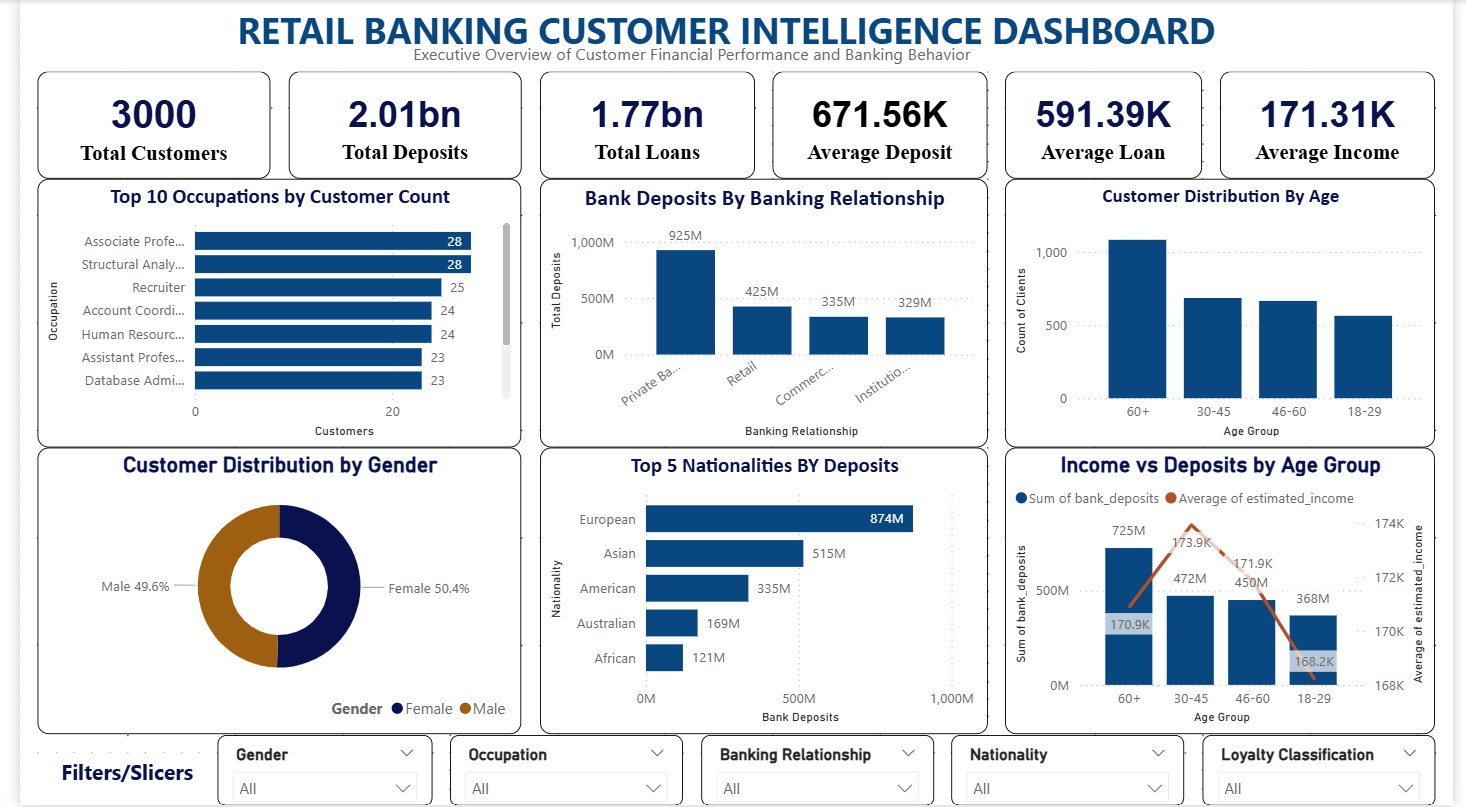

The dashboard page shown, as its layout file describes it:
{"tool":"powerbi","page":{"name":"Executive Dashboard","canvas":[1280,720],"ordinal":0},"visuals":[{"type":"card","fields":{"Values":["clean_banking_data.Total Customers"]},"box":[16,64,208,96],"z":0},{"type":"card","fields":{"Values":["clean_banking_data.Average Loan"]},"box":[880,64,176,96],"z":1},{"type":"card","fields":{"Values":["clean_banking_data.Average Deposit"]},"box":[672,64,192,96],"z":2},{"type":"card","fields":{"Values":["clean_banking_data.Total Deposits"]},"box":[240,64,208,96],"z":3},{"type":"card","fields":{"Values":["clean_banking_data.Average Income"]},"box":[1072,64,192,96],"z":4},{"type":"card","fields":{"Values":["clean_banking_data.Total Loans"]},"box":[464,64,192,96],"z":5},{"type":"clusteredBarChart","title":"Top 10 Occupations by Customer Count","fields":{"Category":["clean_banking_data.occupation"],"Y":["CountNonNull(clean_banking_data.client_id)"]},"box":[16,160,432,240],"z":6},{"type":"clusteredColumnChart","title":"Bank Deposits By Banking Relationship","fields":{"Category":["clean_banking_data.banking_relationship"],"Y":["Sum(clean_banking_data.bank_deposits)"]},"box":[464,160,400,240],"z":7},{"type":"donutChart","title":"Customer Distribution by Gender","fields":{"Category":["clean_banking_data.gender"],"Y":["CountNonNull(clean_banking_data.client_id)"]},"box":[16,400,432,256],"z":8},{"type":"clusteredBarChart","title":"Top 5 Nationalities BY Deposits","fields":{"Category":["clean_banking_data.nationality"],"Y":["Sum(clean_banking_data.bank_deposits)"]},"box":[464,400,400,256],"z":9},{"type":"columnChart","title":"Customer Distribution By Age","fields":{"Category":["clean_banking_data.Age Group"],"Y":["CountNonNull(clean_banking_data.client_id)"]},"box":[880,160,384,240],"z":10},{"type":"lineClusteredColumnComboChart","title":"Income vs Deposits by Age Group","fields":{"Category":["clean_banking_data.Age Group"],"Y":["Sum(clean_banking_data.bank_deposits)"],"Y2":["Avg(clean_banking_data.estimated_income)"]},"box":[880,400,384,256],"z":11},{"type":"textbox","box":[16,0,1248,64],"z":12},{"type":"slicer","fields":{"Values":["clean_banking_data.gender"]},"box":[176,656,192,64],"z":13},{"type":"slicer","fields":{"Values":["clean_banking_data.occupation"]},"box":[384,656,208,64],"z":14},{"type":"slicer","fields":{"Values":["clean_banking_data.banking_relationship"]},"box":[608,656,208,64],"z":15},{"type":"slicer","fields":{"Values":["clean_banking_data.nationality"]},"box":[832,656,208,64],"z":16},{"type":"slicer","fields":{"Values":["clean_banking_data.loyalty_classification"]},"box":[1056,656,208,64],"z":17},{"type":"textbox","box":[16,672,160,48],"z":18},{"type":"textbox","box":[240,32,720,32],"z":19}]}

Visuals, with their boxes in screenshot pixels (x1, y1, x2, y2), scaled from the page's 1280x720 canvas onto the 1466x807 screenshot:
card - clean_banking_data.Total Customers: 18/72/257/179
card - clean_banking_data.Average Loan: 1008/72/1209/179
card - clean_banking_data.Average Deposit: 770/72/990/179
card - clean_banking_data.Total Deposits: 275/72/513/179
card - clean_banking_data.Average Income: 1228/72/1448/179
card - clean_banking_data.Total Loans: 531/72/751/179
"Top 10 Occupations by Customer Count" clusteredBarChart: 18/179/513/448
"Bank Deposits By Banking Relationship" clusteredColumnChart: 531/179/990/448
"Customer Distribution by Gender" donutChart: 18/448/513/735
"Top 5 Nationalities BY Deposits" clusteredBarChart: 531/448/990/735
"Customer Distribution By Age" columnChart: 1008/179/1448/448
"Income vs Deposits by Age Group" lineClusteredColumnComboChart: 1008/448/1448/735
textbox: 18/0/1448/72
slicer - clean_banking_data.gender: 202/735/421/806
slicer - clean_banking_data.occupation: 440/735/678/806
slicer - clean_banking_data.banking_relationship: 696/735/935/806
slicer - clean_banking_data.nationality: 953/735/1191/806
slicer - clean_banking_data.loyalty_classification: 1209/735/1448/806
textbox: 18/753/202/806
textbox: 275/36/1100/72
